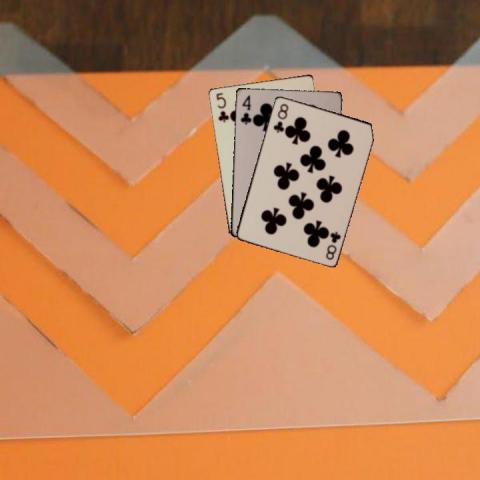4c: (237, 92, 252, 125)
5c: (213, 90, 229, 123)
8c: (270, 100, 290, 134), (323, 229, 342, 261)
